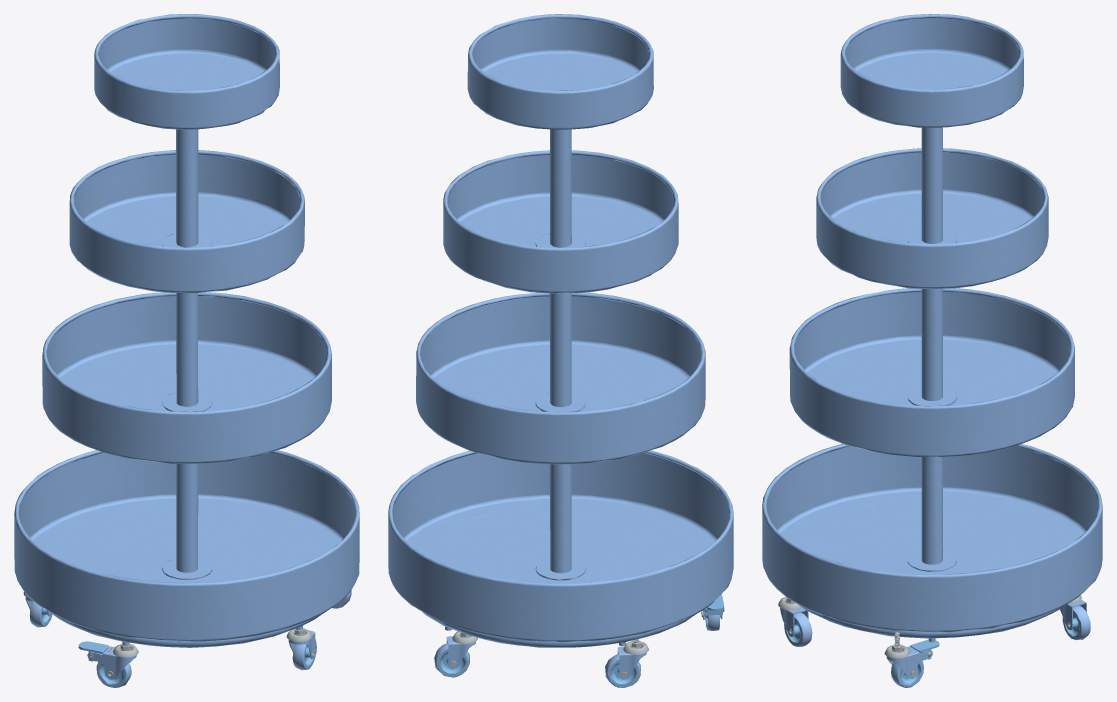
3 renders of one model, left to right at view 1: azimuth 30°, elevation 25°; view 2: azimuth 150°, elevation 25°; view 3: azimuth 270°, elevation 25°, orthographic.
Parts seen in each view (by area): view 1: ASY_ART_40621074_S01_NV01; view 2: ASY_ART_40621074_S01_NV01; view 3: ASY_ART_40621074_S01_NV01.
Boxes of the visible parts, <box> form: ASY_ART_40621074_S01_NV01: <box>14,14,359,687</box>; ASY_ART_40621074_S01_NV01: <box>388,14,733,687</box>; ASY_ART_40621074_S01_NV01: <box>762,14,1102,687</box>.
Bounding box in the file's own units: 0.4852 × 0.8891 × 0.4807.
1 material, 1 textured.
